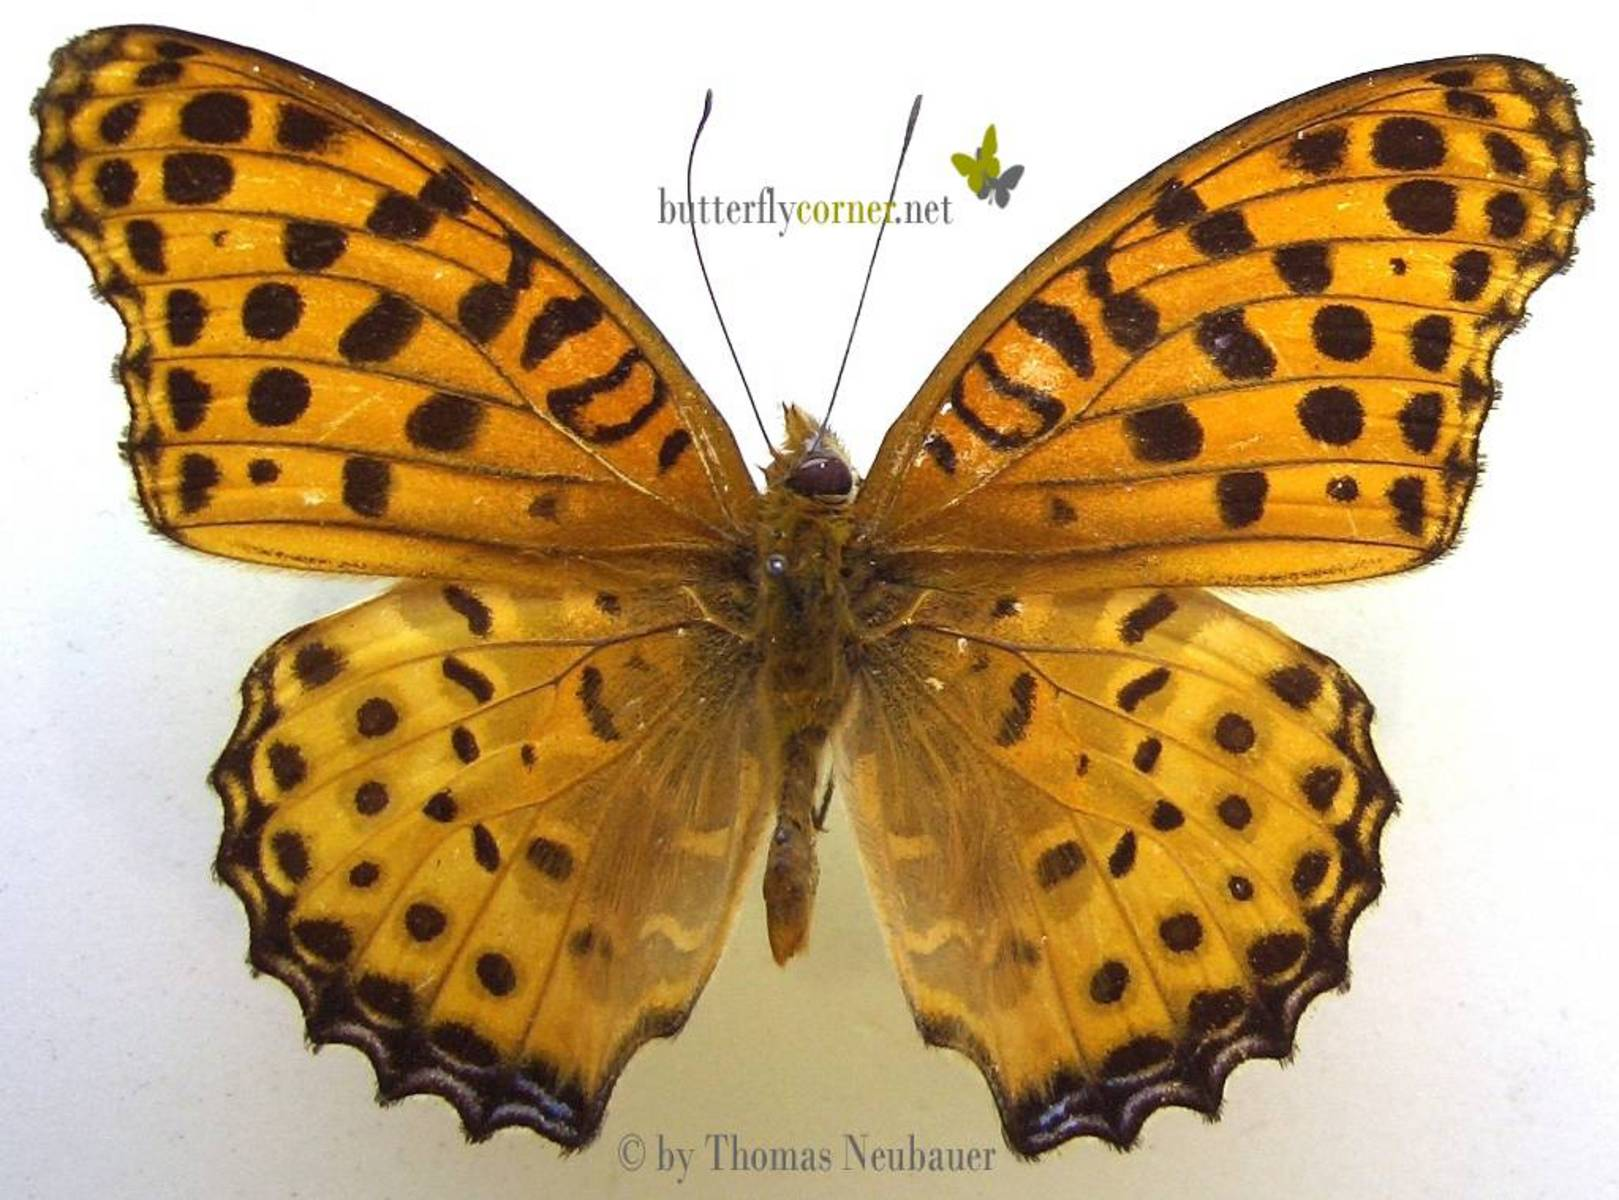Argyreus hyperbius: (26, 8, 1596, 1165)
butterfly: (29, 10, 1598, 1167)
